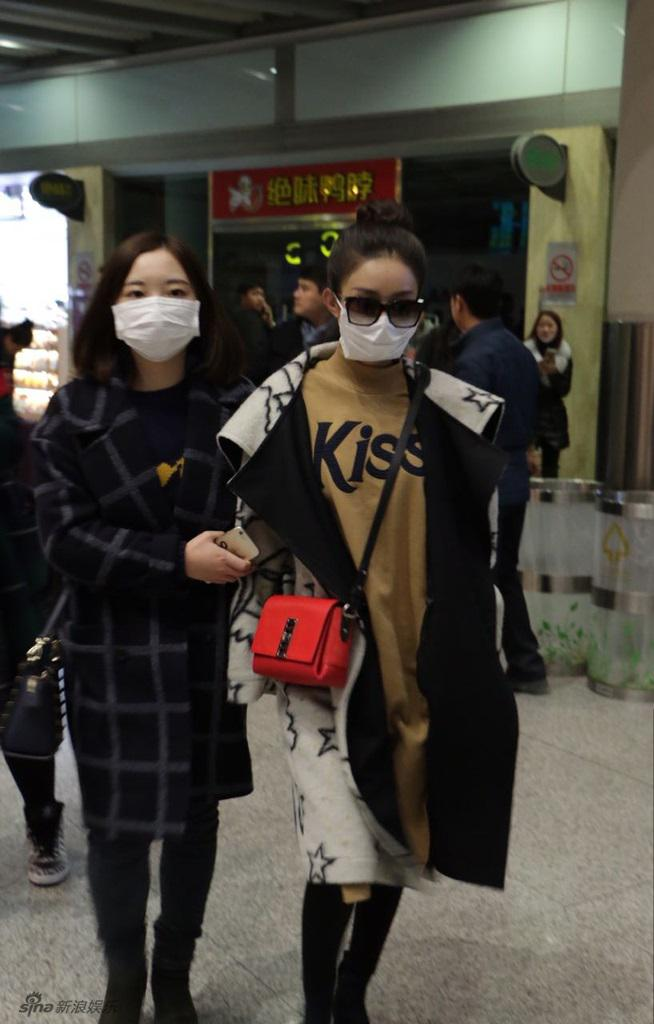NONE: (293, 282, 323, 316), (538, 317, 558, 345), (249, 285, 267, 312)
OK: (111, 274, 196, 359), (343, 284, 418, 365)
